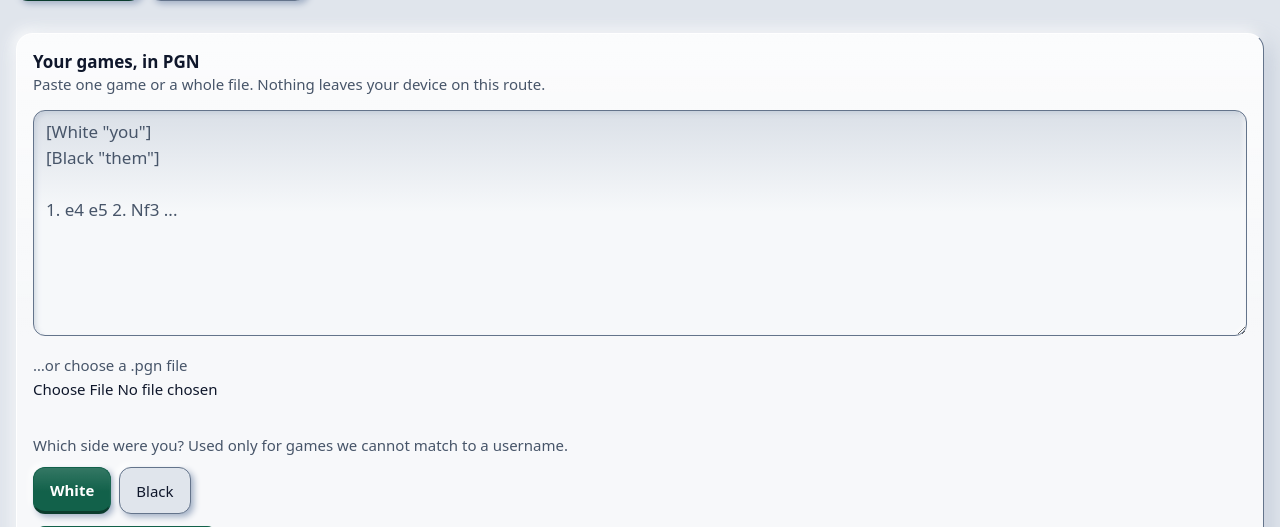
Test case: ImportScreen, the PGN paste path › the import button is disabled until something is pasted
Click the text box labelled "Your games, in PGN": (640, 223) top-left (33, 110), bottom-right (1247, 336)
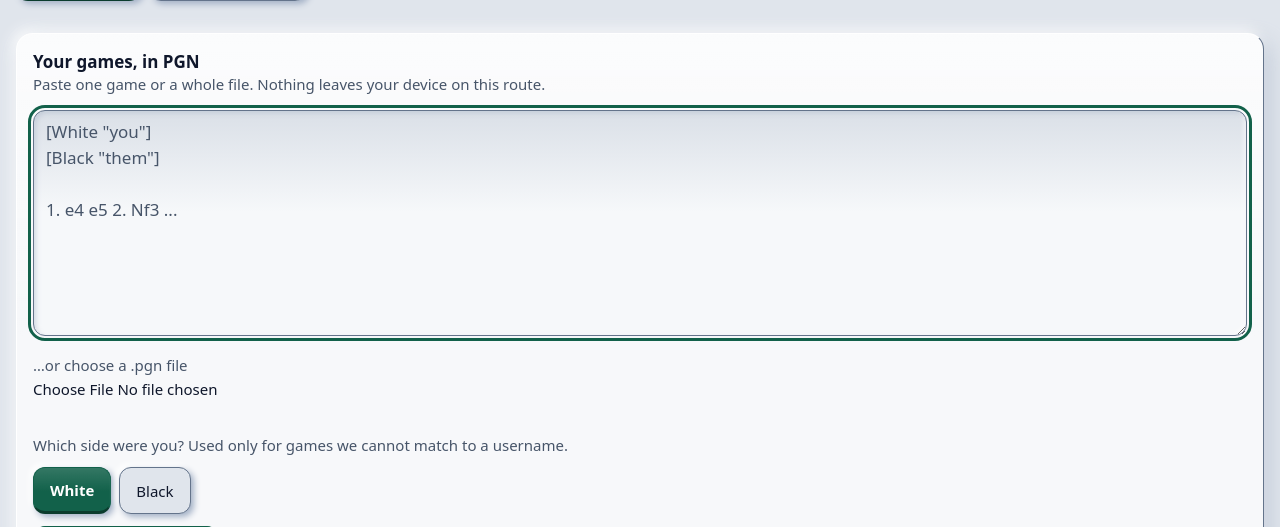
Type keys "[Event \"Live Chess\"] [White \"learner_one\"] [Black \"Rosa\"] [Result \"1-0\"] [UTCDate \"2026.09.20\"] [UTCTime \"14:00:00\"] [TimeControl \"600\"] 1. e4 e5 2. Nf3 Nc6 3. Bb5 a6 1-0"
(page scrolled)
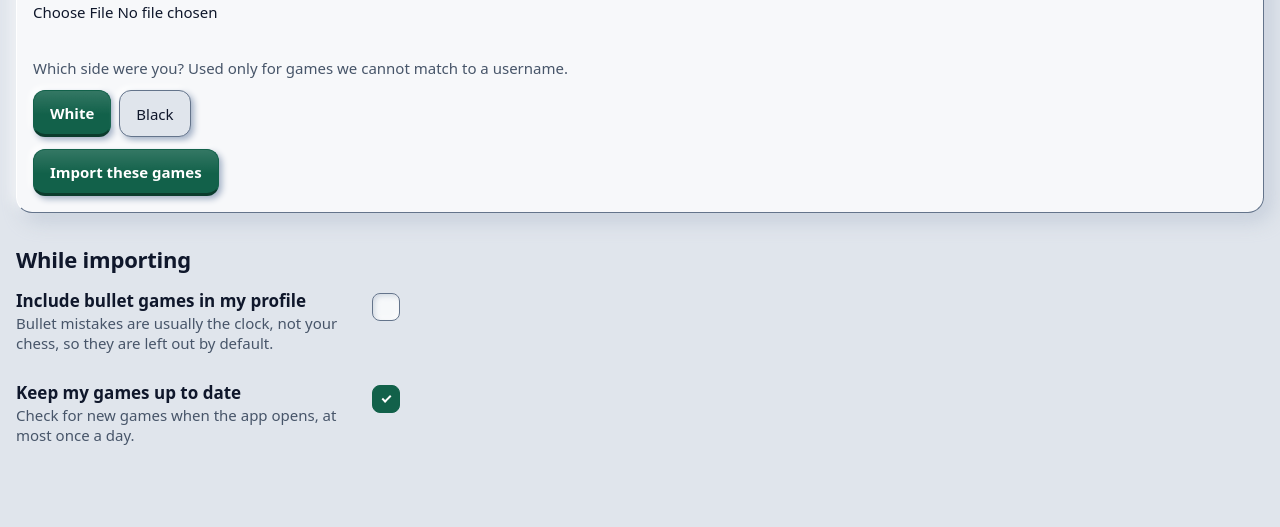
Expected: the button "Import these games" is enabled, top-left (33, 149), bottom-right (219, 196)
